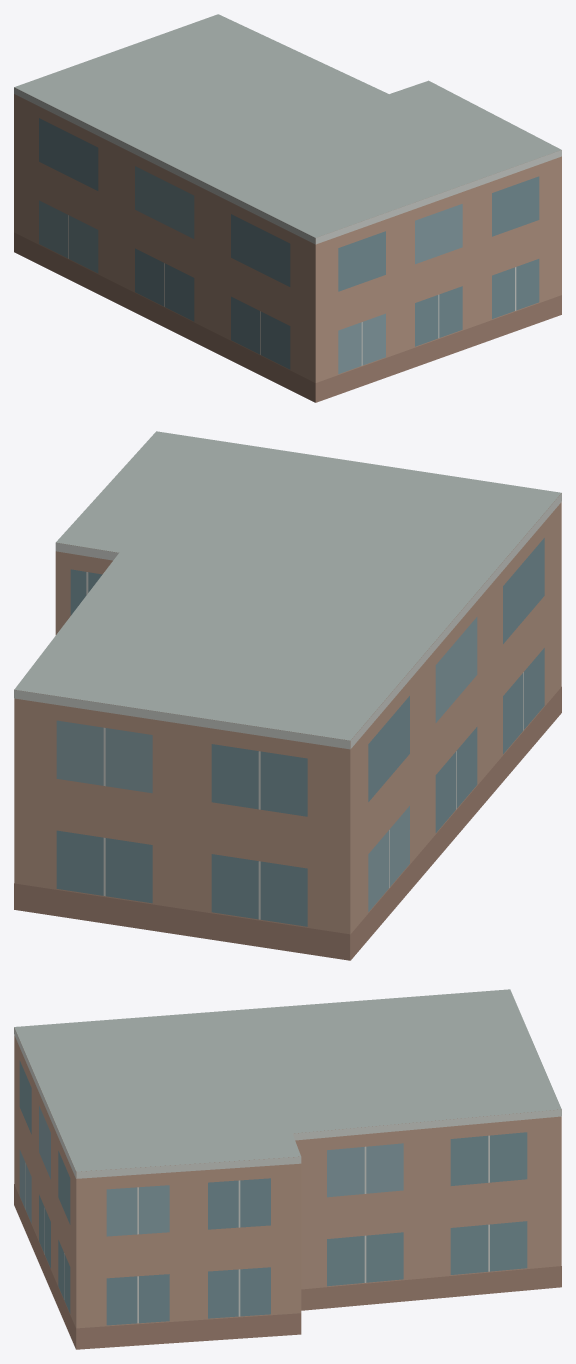
Rendered from survey-upis-32879556.glb.
The picture shows the model from 3 angles, top to bottom: view 1: azimuth 30°, elevation 25°; view 2: azimuth 150°, elevation 25°; view 3: azimuth 270°, elevation 25°; orthographic projection. The views are drawn at different scales.
Visible parts, largest first — view 1: survey-upis-32879556.tmp; view 2: survey-upis-32879556.tmp; view 3: survey-upis-32879556.tmp.
Boxes of the visible parts, x1,y1,x2,y2 form: survey-upis-32879556.tmp: [14, 14, 561, 402]; survey-upis-32879556.tmp: [14, 431, 561, 960]; survey-upis-32879556.tmp: [14, 989, 561, 1349].
Bounding box in the file's own units: 13.43 × 6.1 × 17.03.
